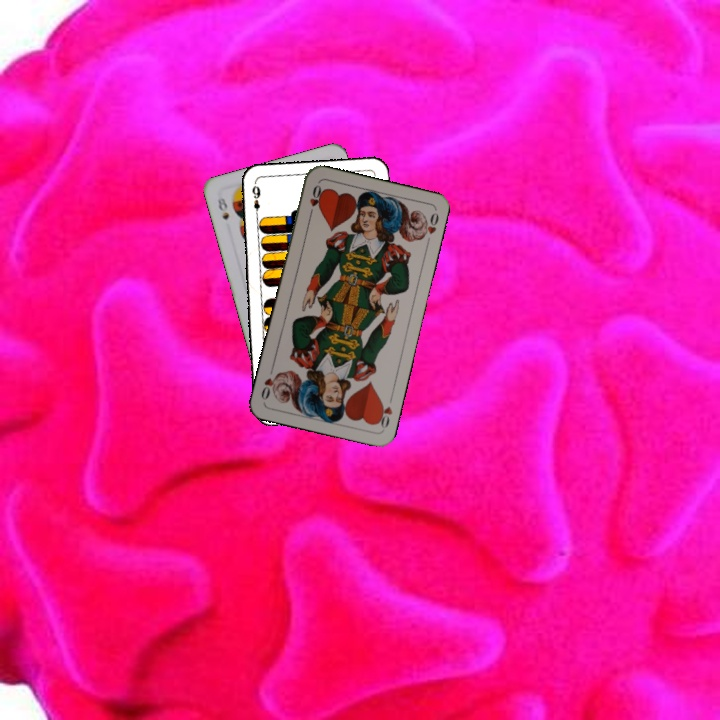E9: (248, 182, 263, 220)
HO: (372, 391, 395, 431), (305, 181, 324, 220)
S8: (213, 191, 231, 222)
